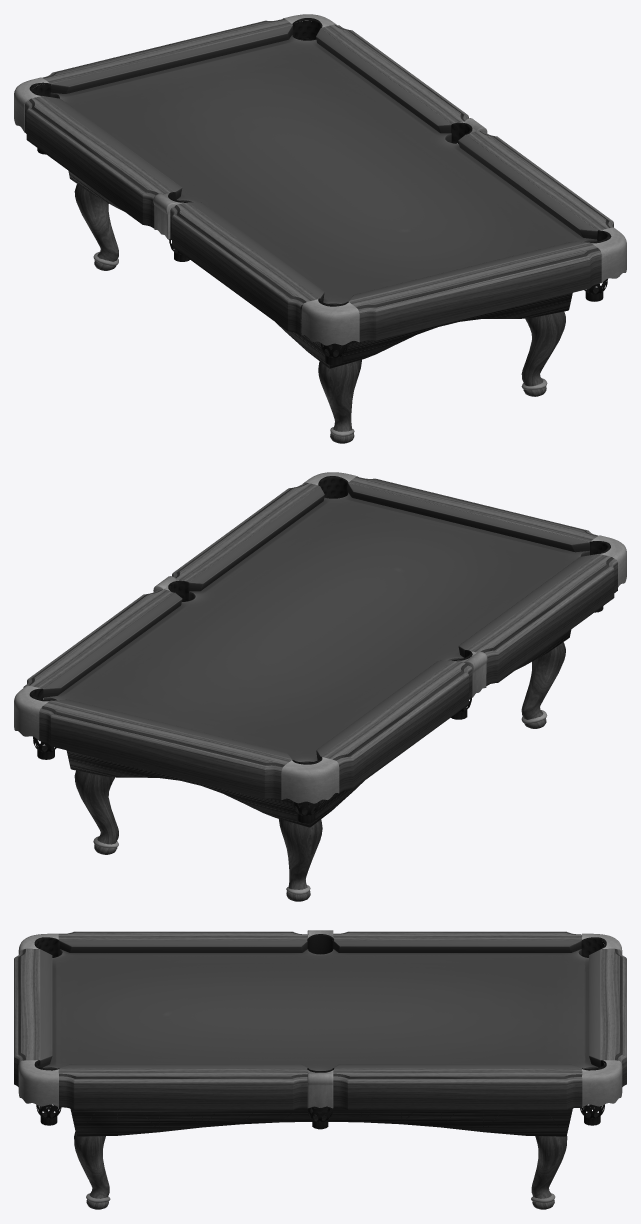
Rendered from pool_table_01.fbx.
3 views of the same model, one above another, from view 1: azimuth 30°, elevation 25°; view 2: azimuth 150°, elevation 25°; view 3: azimuth 270°, elevation 25° (orthographic). The views are drawn at different scales.
Parts seen in each view (by area): view 1: table_top, table_frame, table_metal, table_rubber; view 2: table_top, table_frame, table_metal, table_rubber; view 3: table_top, table_frame, table_metal, table_rubber.
Boxes of the visible parts, left/top/right/bottom form: table_top: left=43, top=25, right=597, bottom=304; table_frame: left=25, top=19, right=613, bottom=443; table_metal: left=14, top=14, right=626, bottom=436; table_rubber: left=29, top=18, right=611, bottom=365; table_top: left=43, top=483, right=596, bottom=762; table_frame: left=23, top=477, right=617, bottom=901; table_metal: left=14, top=472, right=626, bottom=894; table_rubber: left=29, top=476, right=610, bottom=823; table_top: left=40, top=940, right=600, bottom=1070; table_frame: left=14, top=931, right=626, bottom=1209; table_metal: left=18, top=930, right=622, bottom=1202; table_rubber: left=34, top=934, right=606, bottom=1129.
Bounding box in the file's own units: 1.71 × 0.8578 × 2.95.
